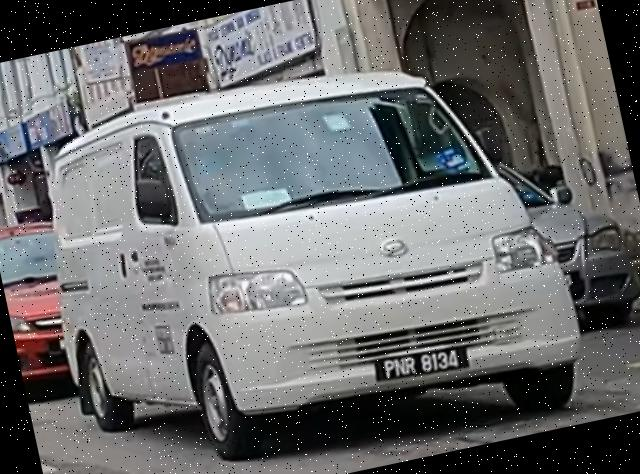License_Plate: (371, 340, 472, 390)
